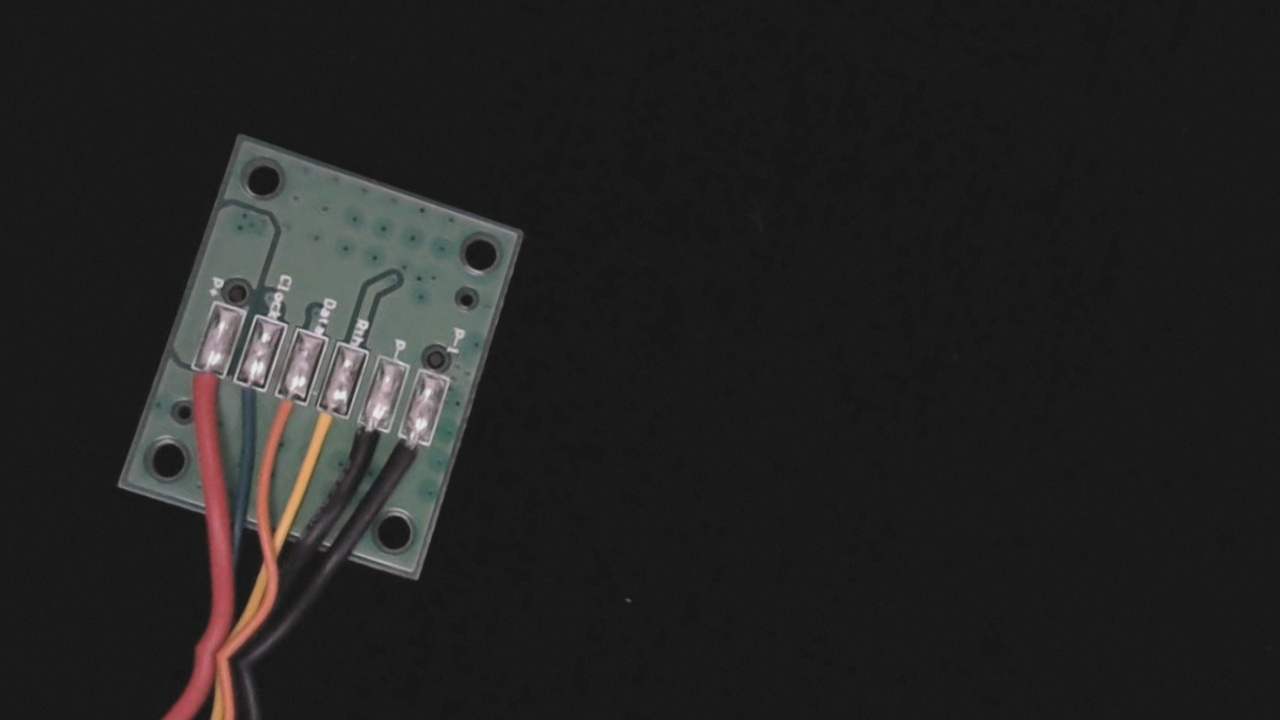Black: (340, 399, 397, 487)
Black1: (383, 417, 436, 493)
Green: (220, 360, 271, 433)
Orange: (261, 371, 315, 451)
Red: (177, 343, 234, 427)
Yellow: (300, 386, 355, 475)
